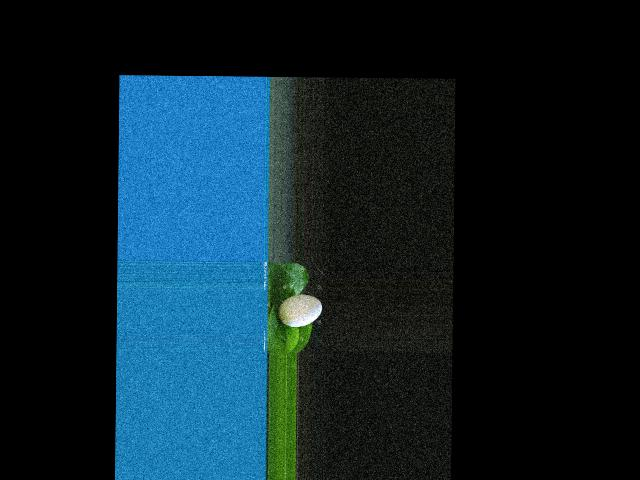egg: (278, 294, 322, 327)
